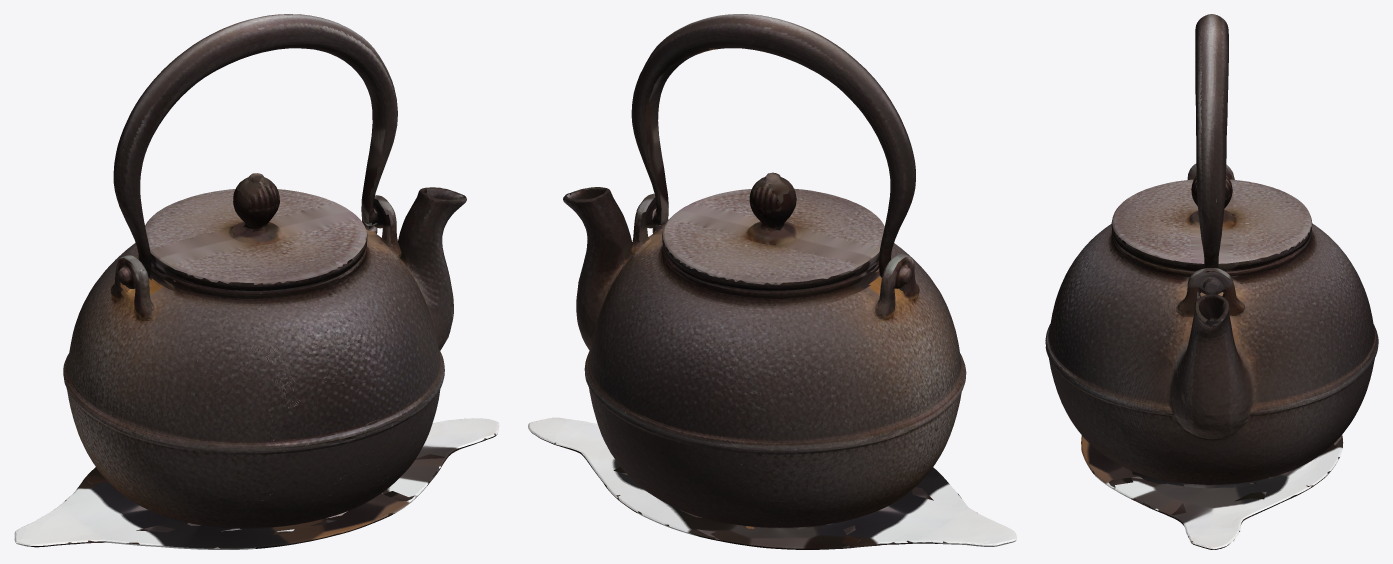
The model's file is traveler_env_coast_hoshi_tea_kettle_00001_.glb.
3 views of the same model, side by side, from view 1: azimuth 30°, elevation 25°; view 2: azimuth 150°, elevation 25°; view 3: azimuth 270°, elevation 25° (orthographic). The views are drawn at different scales.
Parts seen in each view (by area): view 1: temp_mesh.ply; view 2: temp_mesh.ply; view 3: temp_mesh.ply.
Boxes of the visible parts, x1,y1,x2,y2 form: temp_mesh.ply: [14, 14, 499, 549]; temp_mesh.ply: [528, 14, 1016, 549]; temp_mesh.ply: [1045, 14, 1378, 549].
Bounding box in the file's own units: 1.97 × 1.81 × 1.31.
Materials: 1 (1 with a texture image).
